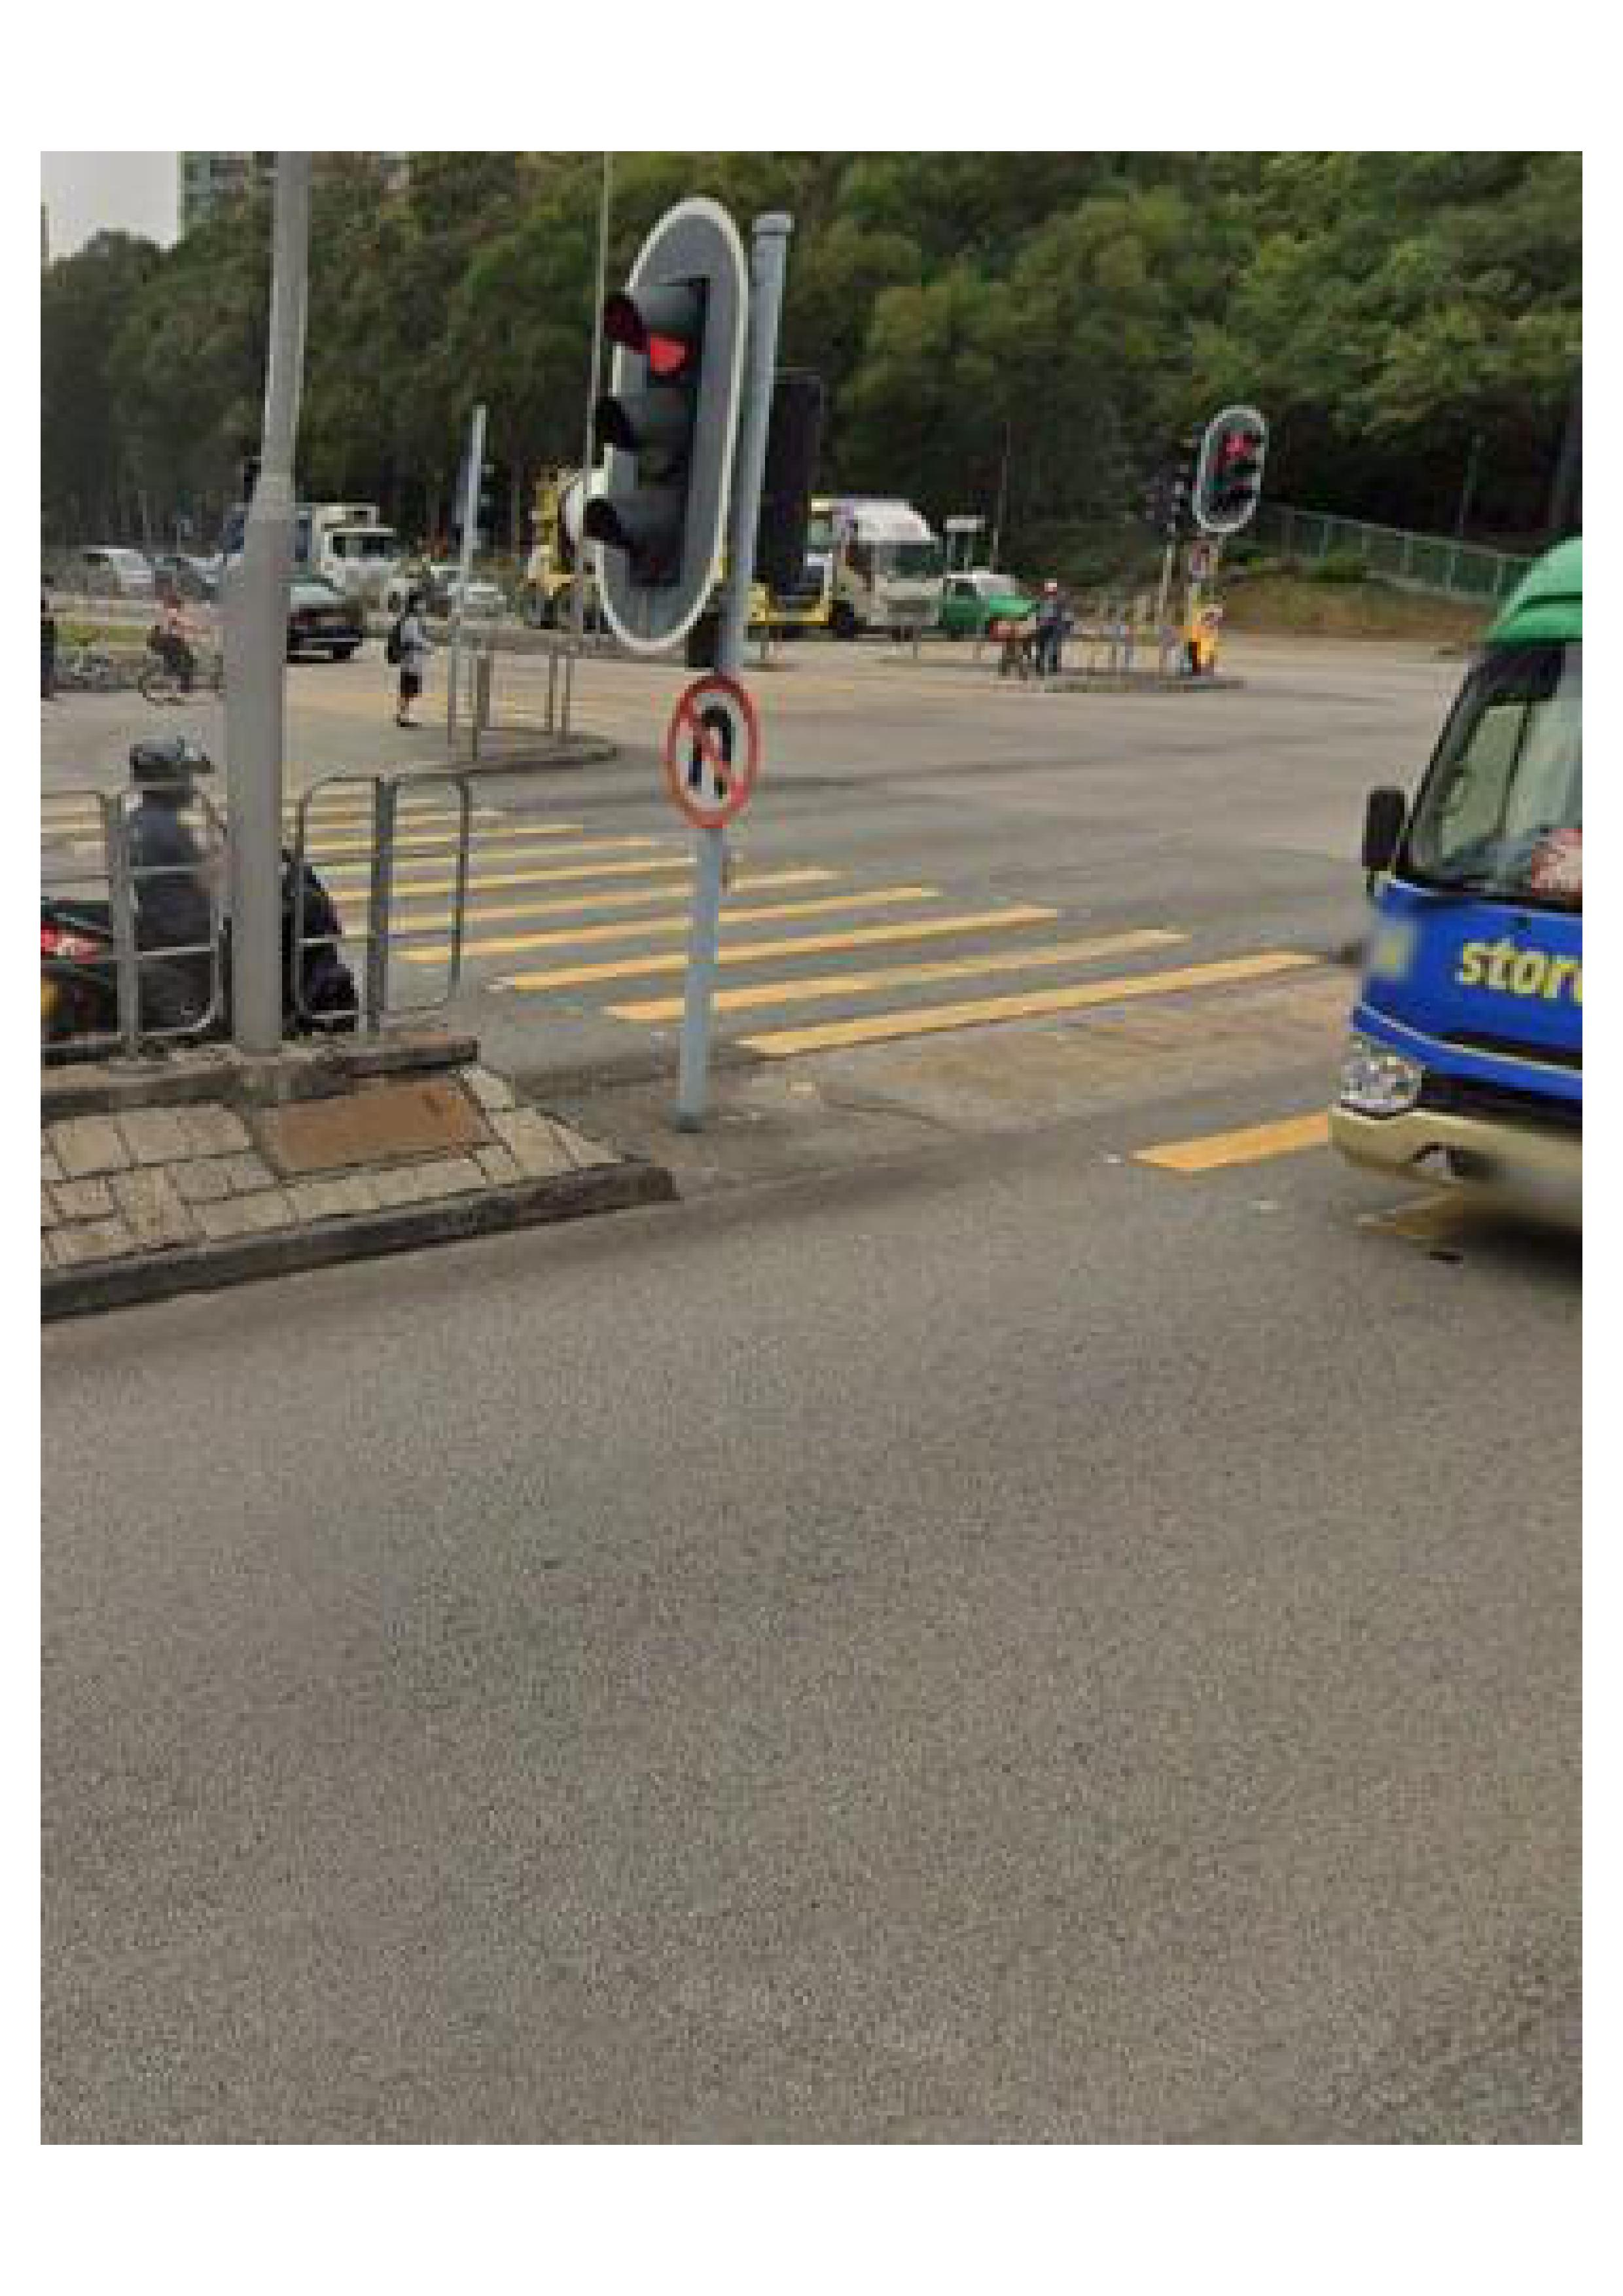No Uturn: (660, 676, 761, 825)
